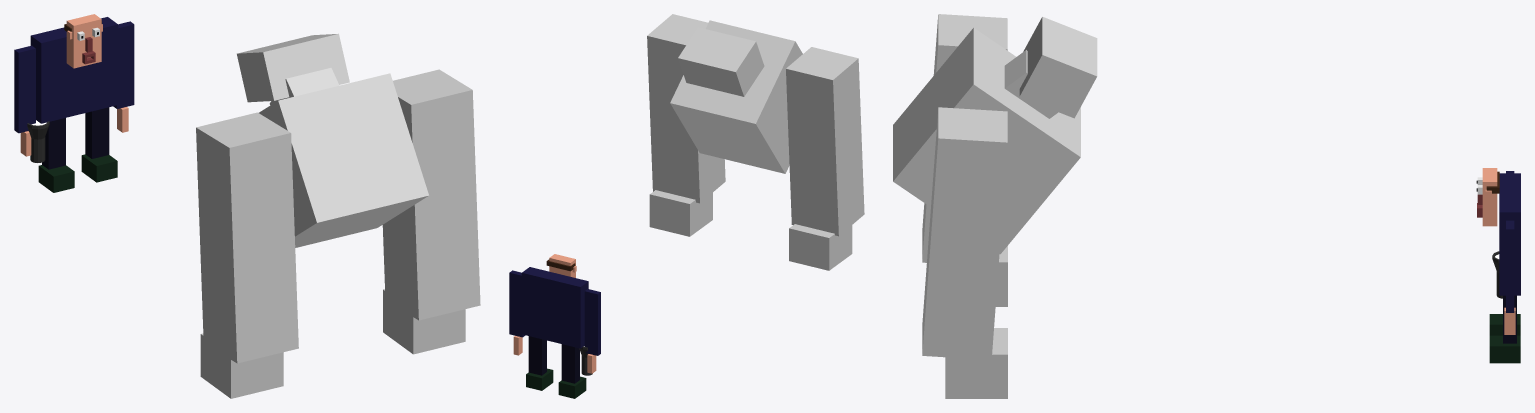
File: Man.glb
3 views of the same model, side by side, from view 1: azimuth 30°, elevation 25°; view 2: azimuth 150°, elevation 25°; view 3: azimuth 270°, elevation 25° (orthographic). The views are drawn at different scales.
Parts seen in each view (by area): view 1: Cube.023, Cube.019, Cube.022, Cube, Cube.021, Cube.025, Cube.024, Cube.003, Cube.002, Cube.001, Cube.004, Cube.020 (+4 smaller); view 2: Cube.023, Cube.019, Cube.022, Cube, Cube.021, Cube.025, Cube.024, Cube.003, Cube.002, Cube.005, Cube.004, Cube.007 (+2 smaller); view 3: Cube.022, Cube.019, Cube.021, Cube.024, Cube.023, Cube, Cube.020, Cube.001, Cube.002, Cube.006, Cube.025.
Boxes of the visible parts, x1,y1,x2,y2 form: Cube.023: (196,112,298,363); Cube.019: (259,73,428,247); Cube.022: (382,69,480,320); Cube: (30,17,118,123); Cube.021: (237,33,349,102); Cube.025: (200,333,283,398); Cube.024: (383,289,465,354); Cube.003: (14,45,35,133); Cube.002: (113,21,134,108); Cube.001: (66,14,101,68); Cube.004: (85,107,109,158); Cube.020: (269,68,339,105); Cube.023: (786,47,864,236); Cube.019: (670,20,802,173); Cube.022: (647,14,725,203); Cube: (521,267,588,348); Cube.021: (678,27,764,96); Cube.025: (789,224,852,270); Cube.024: (649,190,712,236); Cube.003: (584,289,600,355); Cube.002: (509,270,525,337); Cube.005: (561,344,579,383); Cube.004: (528,336,546,375); Cube.007: (558,376,586,398); Cube.022: (922,107,1007,359); Cube.019: (893,28,1080,254); Cube.021: (1019,16,1097,118); Cube.024: (945,328,1007,398); Cube.023: (922,14,1007,262); Cube: (1499,173,1520,295); Cube.020: (1004,50,1058,118); Cube.001: (1482,168,1497,226); Cube.002: (1506,220,1514,312); Cube.006: (1489,335,1520,363); Cube.025: (995,246,1007,306).
Size of the model in its own units: 6.32 by 7.46 by 13.63.
